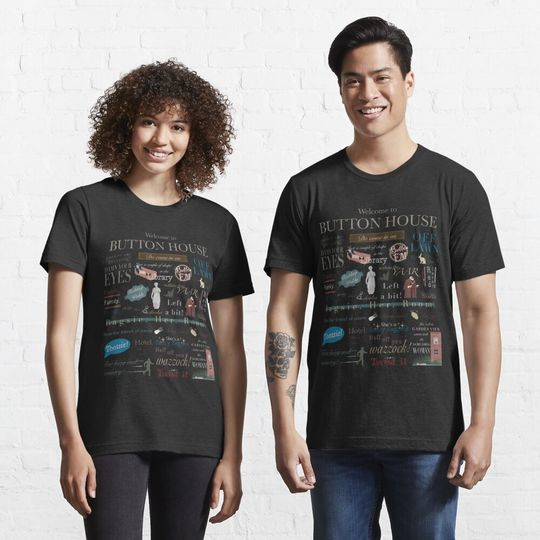design: (318, 202, 446, 369), (101, 228, 220, 384)
